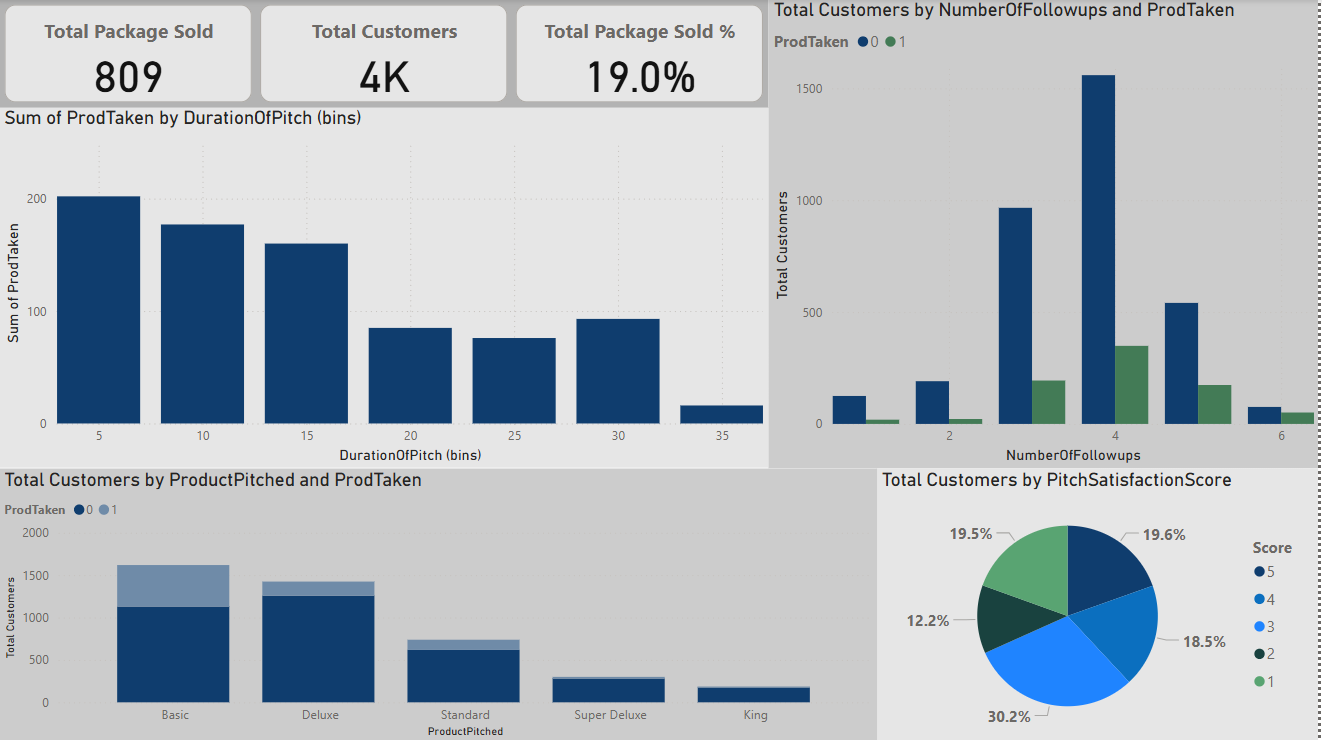

This screenshot's page, from the dashboard's own definition file:
{"tool":"powerbi","page":{"name":"Pitching insights","canvas":[1280,720],"ordinal":1},"visuals":[{"type":"columnChart","fields":{"Category":["tour_package.DurationOfPitch (bins)"],"Y":["Sum(tour_package.ProdTaken)"]},"box":[0,105.2,746.5,349.8],"z":0},{"type":"cardVisual","fields":{"Data":["_Measures.Total Package Sold","_Measures.Total Customers","_Measures.Total Package Sold %"]},"box":[0,0,746.5,105.2],"z":1000},{"type":"pieChart","fields":{"Category":["tour_package.PitchSatisfactionScore"],"Y":["_Measures.Total Customers"]},"box":[851.7,455,429.1,265.6],"z":2000},{"type":"columnChart","fields":{"Category":["tour_package.ProductPitched"],"Y":["_Measures.Total Customers"],"Series":["tour_package.ProdTaken"]},"box":[0,455,851.7,265.6],"z":3000},{"type":"clusteredColumnChart","fields":{"Category":["tour_package.NumberOfFollowups"],"Y":["_Measures.Total Customers"],"Series":["tour_package.ProdTaken"]},"box":[746.5,0,534.3,455],"z":4000}]}

Visuals, with their boxes in screenshot pixels (x1, y1, x2, y2), scaled from the page's 1280x720 canvas onto the 1322x740 screenshot:
columnChart - tour_package.DurationOfPitch (bins) x Sum(tour_package.ProdTaken): [0,108,771,468]
cardVisual - _Measures.Total Package Sold x _Measures.Total Customers: [0,0,771,108]
pieChart - tour_package.PitchSatisfactionScore x _Measures.Total Customers: [880,468,1321,739]
columnChart - tour_package.ProductPitched x _Measures.Total Customers: [0,468,880,739]
clusteredColumnChart - tour_package.NumberOfFollowups x _Measures.Total Customers: [771,0,1321,468]
